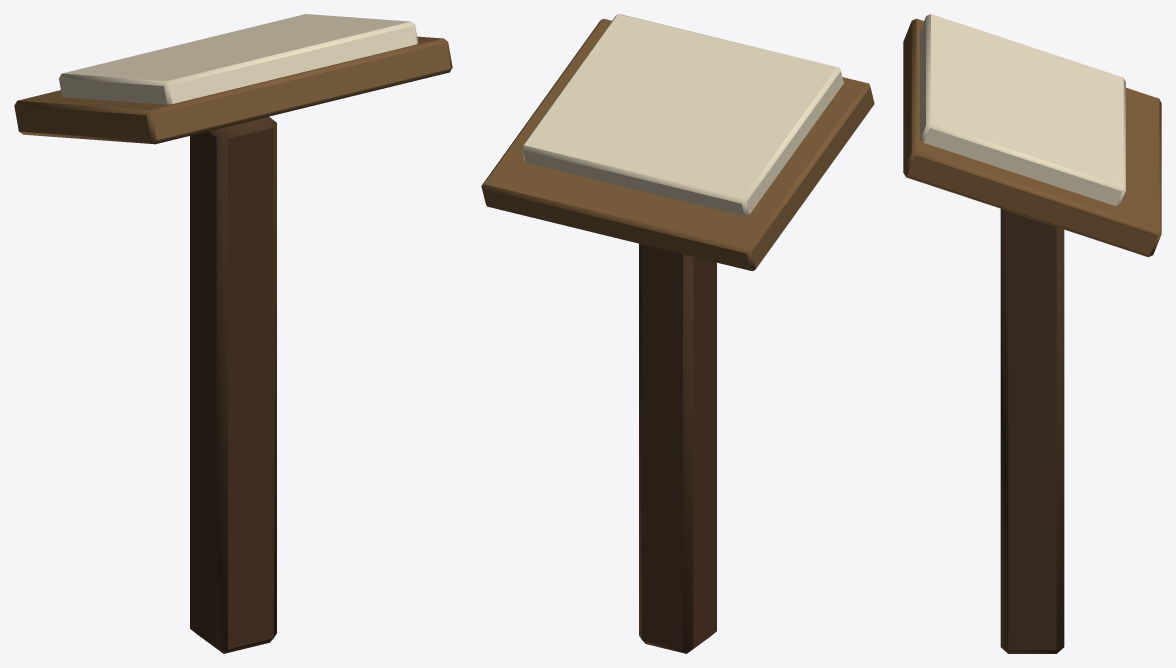
The model's file is lectern.glb.
3 renders of one model, left to right at view 1: azimuth 30°, elevation 25°; view 2: azimuth 150°, elevation 25°; view 3: azimuth 270°, elevation 25°, orthographic. The views are drawn at different scales.
Visible parts, largest first — view 1: building; view 2: building; view 3: building.
Boxes of the visible parts, <box> form: building: <box>14,14,452,653</box>; building: <box>481,14,874,653</box>; building: <box>903,14,1161,653</box>.
Bounding box in the file's own units: 0.6 × 1.19 × 0.4854.
